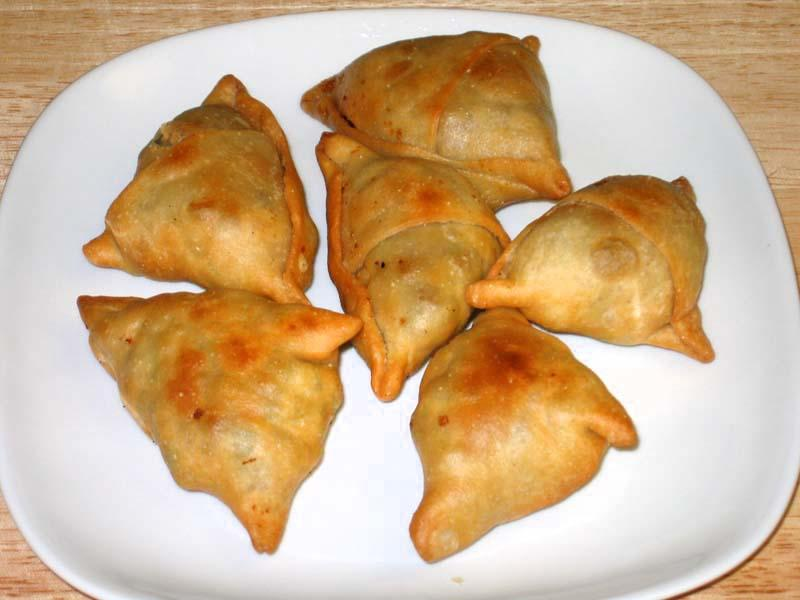samosa: (78, 289, 359, 552), (409, 308, 638, 562), (83, 75, 319, 304), (317, 133, 509, 401), (303, 31, 572, 207), (469, 175, 712, 360)
